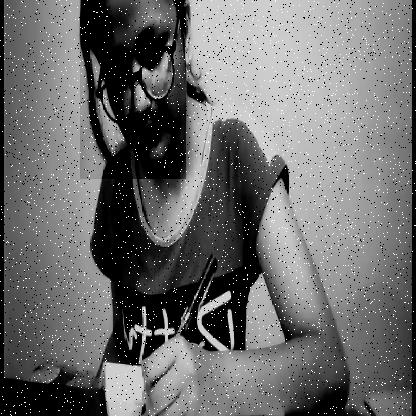Distracted: (80, 0, 186, 179)
